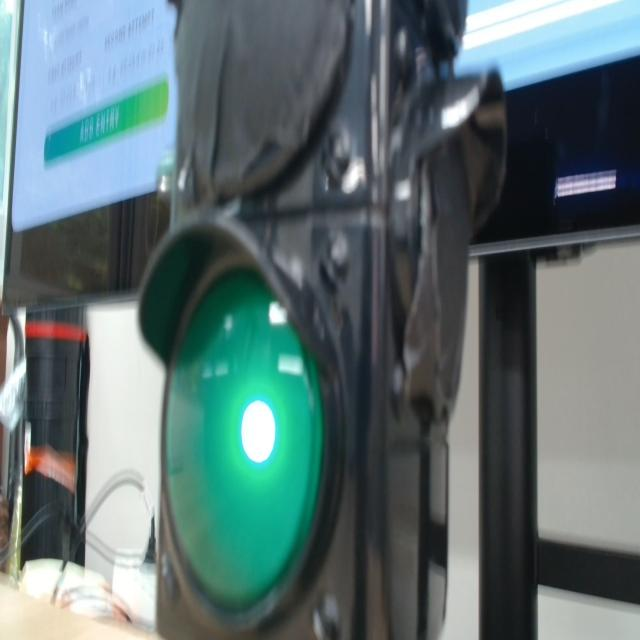green_light: (165, 272, 323, 609), (242, 401, 275, 463)
